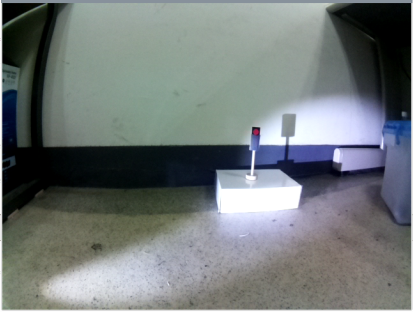Red: (248, 126, 261, 156)
